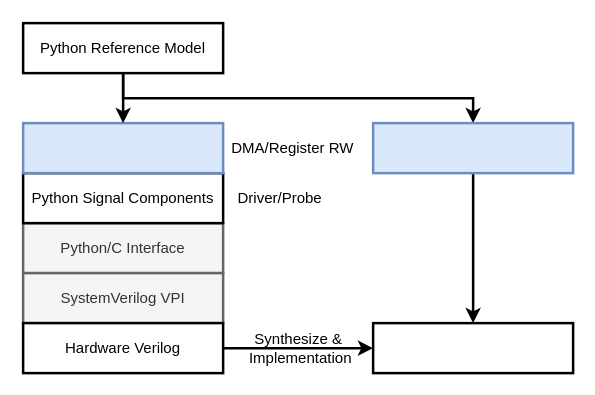
This 595x395 diagram has some shape labels left out. Here are the shapes that lost their labels. From the top down, the centre of each, then its label:
At point 122,147: "Python Hardware Abstraction".
At point 472,147: "C Driver".
At point 472,347: "FPGA on-board".
